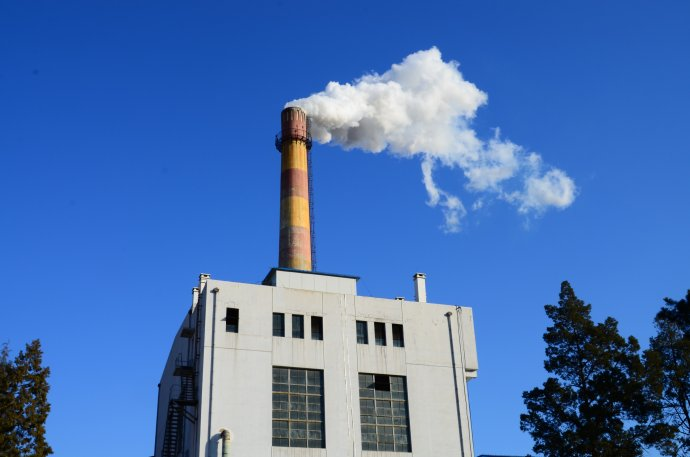dust: (278, 43, 486, 154)
